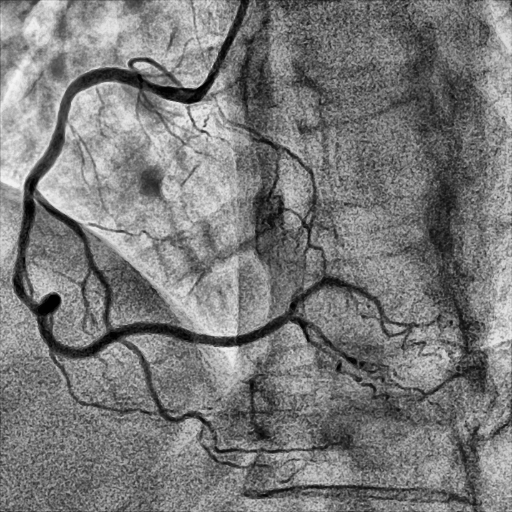pborca: (285, 276, 435, 356)
pda: (290, 316, 384, 383)
rca: (13, 68, 292, 358)
